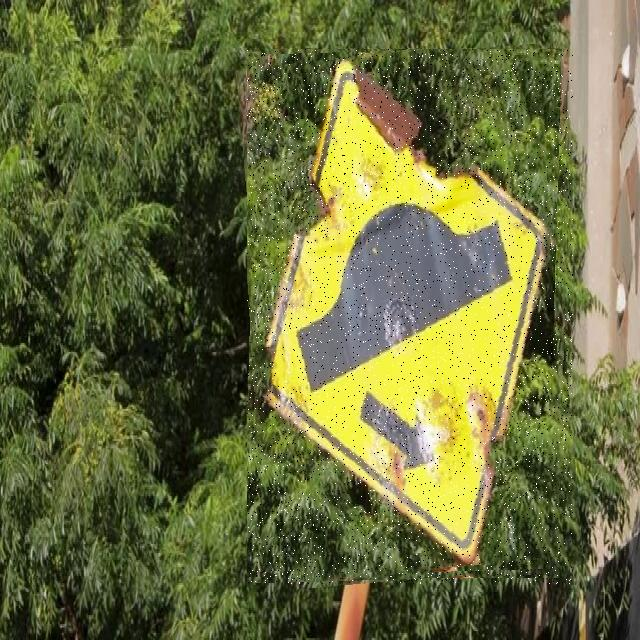hump: (247, 49, 573, 584)
